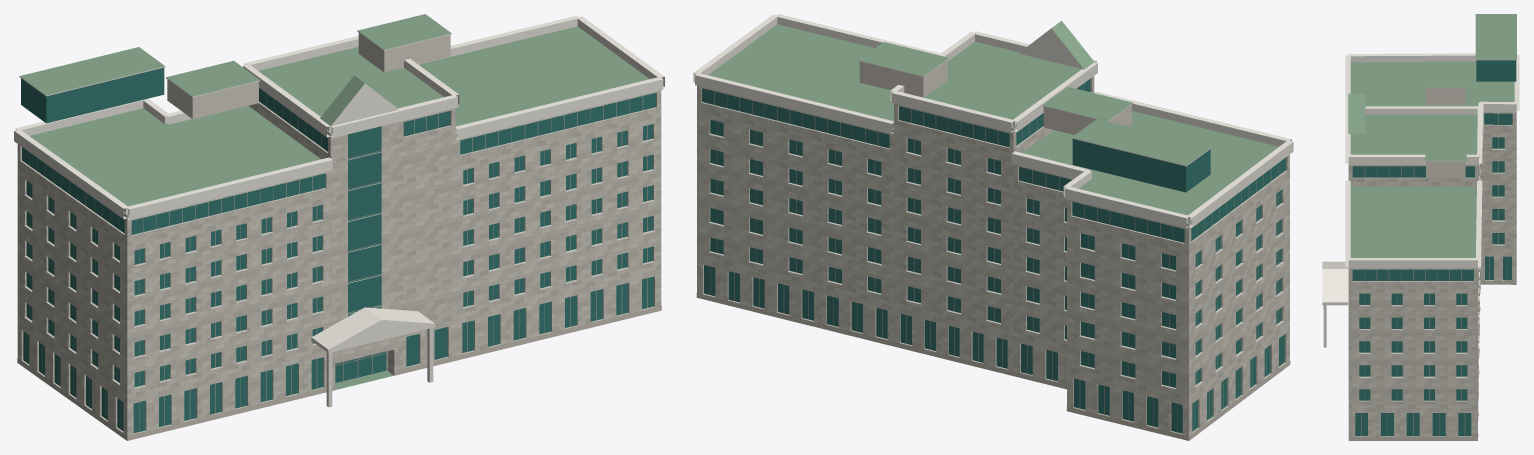
3 renders of one model, left to right at view 1: azimuth 30°, elevation 25°; view 2: azimuth 150°, elevation 25°; view 3: azimuth 270°, elevation 25°, orthographic. The views are drawn at different scales.
Parts seen in each view (by area): view 1: business__wall, business__glass, business__roof, business__trim, business__wall2, business__frame, business__base, business__column; view 2: business__wall, business__glass, business__roof, business__trim, business__base, business__wall2, business__frame; view 3: business__wall, business__roof, business__glass, business__trim, business__wall2, business__frame, business__base.
Boxes of the visible parts, bbox=[...] form: business__wall: bbox=[17, 90, 661, 440]; business__glass: bbox=[21, 67, 655, 433]; business__roof: bbox=[20, 14, 649, 389]; business__trim: bbox=[14, 15, 664, 388]; business__wall2: bbox=[167, 33, 450, 118]; business__frame: bbox=[26, 93, 647, 431]; business__base: bbox=[17, 306, 661, 440]; business__column: bbox=[326, 328, 433, 407]; business__wall: bbox=[697, 76, 1289, 440]; business__glass: bbox=[702, 79, 1285, 433]; business__roof: bbox=[708, 20, 1278, 224]; business__trim: bbox=[693, 14, 1293, 389]; business__base: bbox=[696, 293, 1290, 440]; business__wall2: bbox=[859, 60, 1131, 134]; business__frame: bbox=[710, 84, 1278, 432]; business__wall: bbox=[1348, 109, 1516, 437]; business__roof: bbox=[1348, 14, 1516, 257]; business__glass: bbox=[1352, 60, 1516, 436]; business__trim: bbox=[1322, 53, 1519, 401]; business__wall2: bbox=[1426, 88, 1465, 178]; business__frame: bbox=[1361, 113, 1507, 436]; business__base: bbox=[1348, 281, 1516, 440].
Bounding box in the file's own units: 73.83 × 38.9 × 29.76.
9 materials, 1 textured.
